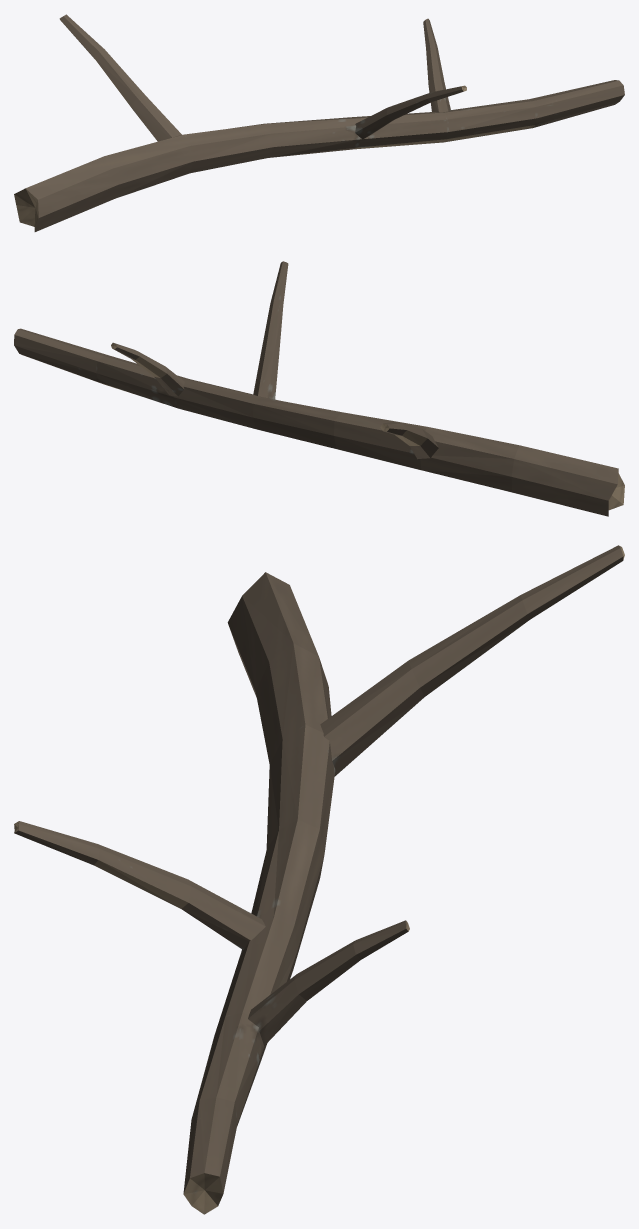
The model's file is river_driftwood_branch.glb.
3 views of the same model, one above another, from view 1: azimuth 30°, elevation 25°; view 2: azimuth 150°, elevation 25°; view 3: azimuth 270°, elevation 25° (orthographic). The views are drawn at different scales.
Visible parts, largest first — view 1: DriftwoodBranch; view 2: DriftwoodBranch; view 3: DriftwoodBranch.
Boxes of the visible parts, bbox=[...] form: DriftwoodBranch: bbox=[14, 14, 624, 231]; DriftwoodBranch: bbox=[14, 261, 624, 516]; DriftwoodBranch: bbox=[14, 545, 624, 1214].
Size of the model in its own units: 1.2 by 0.25 by 0.55.
1 material, 1 textured.
